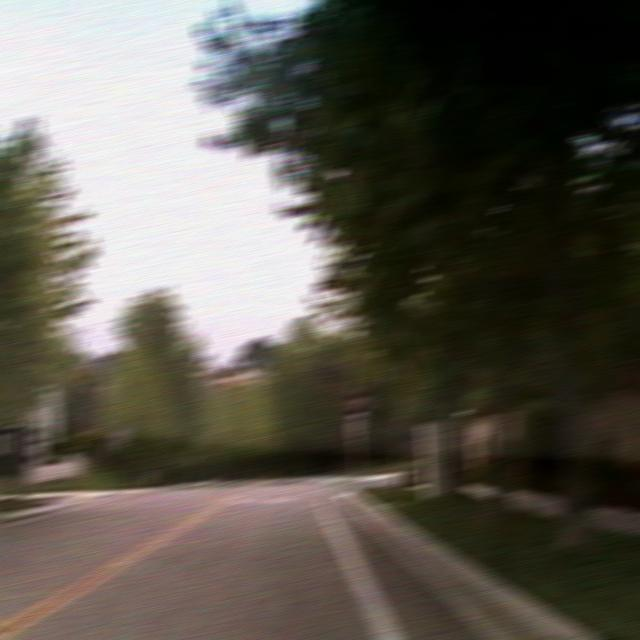stop_sign: (344, 389, 368, 414)
